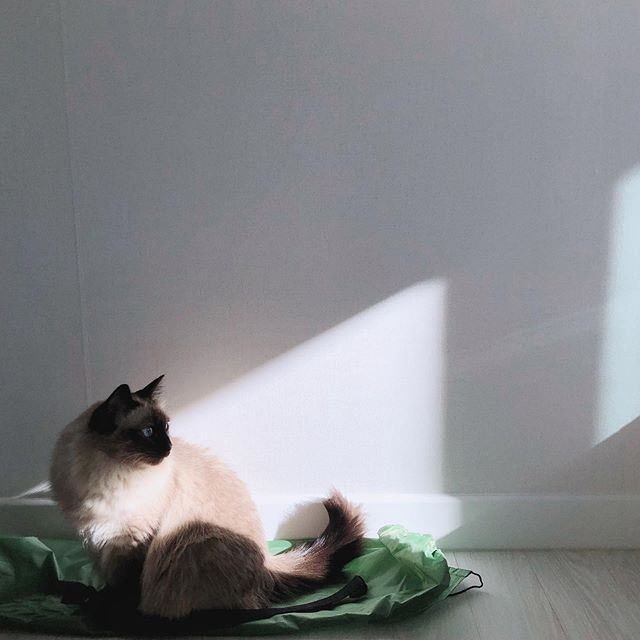cat: (91, 374, 181, 475)
